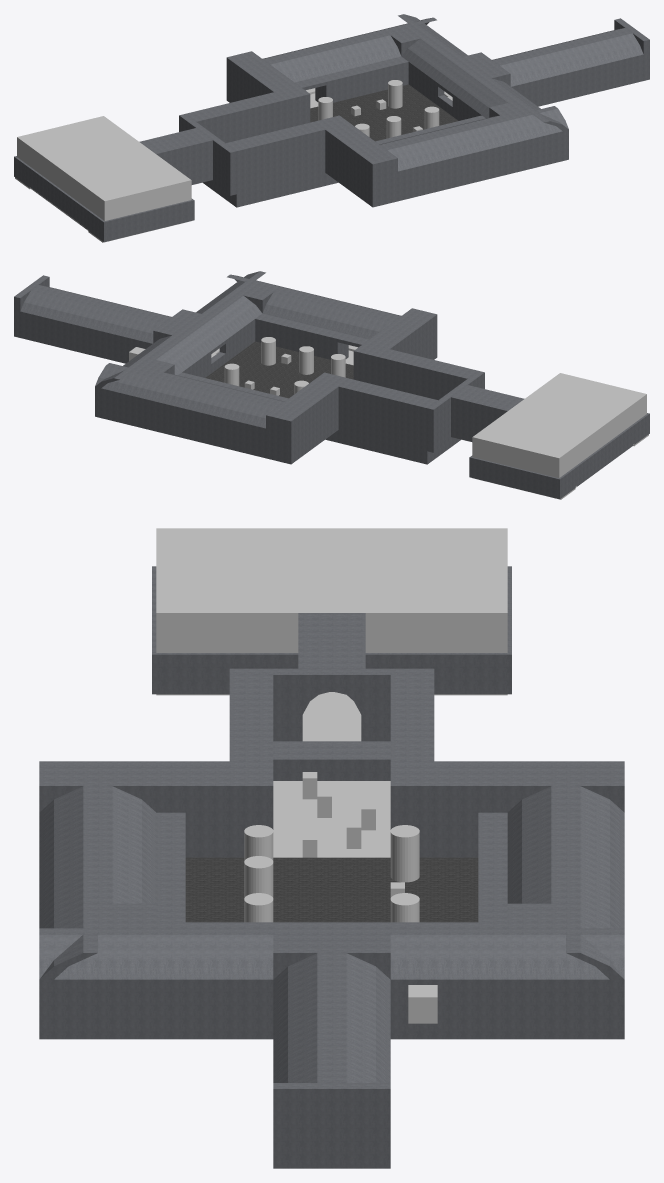
3 renders of one model, top to bottom at view 1: azimuth 30°, elevation 25°; view 2: azimuth 150°, elevation 25°; view 3: azimuth 270°, elevation 25°, orthographic. The views are drawn at different scales.
Parts seen in each view (by area): view 1: Cube.118, Cube.048, Cube.061, Cube.077, Cube.046, Cube.056, Cube.075, Cube.096, Cube.066, Cube.069, Cube.088, Cube.092 (+26 smaller); view 2: Cube.118, Cube.046, Cube.062, Cube.069, Cube.048, Cube.057, Cube.075, Cube.090, Cube.067, Cube.077, Cube.086, Cube.094 (+27 smaller); view 3: Cube.118, Cube.075, Cube.060, Cube.063, Cube.076, Cube.069, Cube.077, Cube.078, Cube.046, Cube.048, Cube.090, Cube.096 (+38 smaller).
Part boxes in pixels (box(x1,y1,x2,y2)): Cube.118: box(17, 116, 191, 220); Cube.048: box(225, 115, 350, 207); Cube.061: box(398, 130, 568, 201); Cube.077: box(325, 123, 397, 207); Cube.046: box(185, 86, 310, 143); Cube.056: box(511, 54, 643, 106); Cube.075: box(310, 84, 458, 141); Cube.096: box(384, 106, 565, 161); Cube.066: box(315, 56, 408, 102); Cube.069: box(226, 51, 298, 102); Cube.088: box(496, 30, 639, 76); Cube.092: box(267, 32, 397, 74); Cube.118: box(472, 373, 646, 477); Cube.046: box(313, 372, 438, 464); Cube.062: box(101, 388, 265, 458); Cube.069: box(266, 380, 338, 464); Cube.048: box(353, 343, 478, 400); Cube.057: box(20, 311, 152, 363); Cube.075: box(205, 341, 353, 398); Cube.090: box(98, 363, 279, 418); Cube.067: box(255, 313, 348, 359); Cube.077: box(365, 308, 437, 359); Cube.086: box(24, 287, 167, 333); Cube.094: box(266, 289, 396, 331); Cube.118: box(156, 528, 507, 652); Cube.075: box(185, 857, 478, 922); Cube.060: box(54, 979, 273, 1039); Cube.063: box(390, 979, 624, 1039); Cube.076: box(273, 1083, 390, 1168); Cube.069: box(434, 761, 624, 857); Cube.077: box(39, 761, 229, 857); Cube.078: box(273, 781, 390, 857); Cube.046: box(390, 675, 434, 857); Cube.048: box(229, 675, 273, 857); Cube.090: box(566, 786, 609, 966); Cube.096: box(54, 786, 97, 966).
Size of the model in its own units: 91 by 8.5 by 40.
